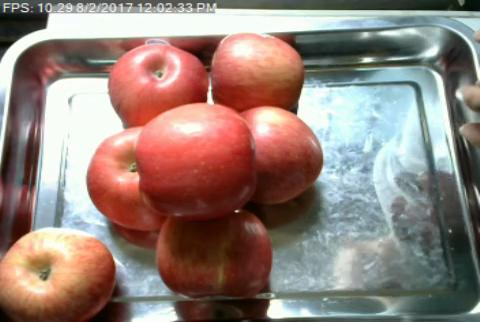apple: (136, 103, 258, 219), (0, 228, 116, 321), (157, 212, 272, 301), (89, 124, 159, 235), (211, 34, 305, 109), (252, 107, 322, 205), (110, 44, 207, 112)
